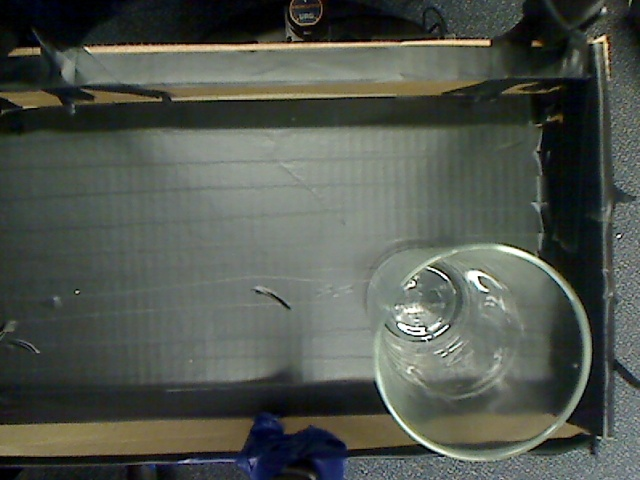cup: (344, 232, 609, 473)
